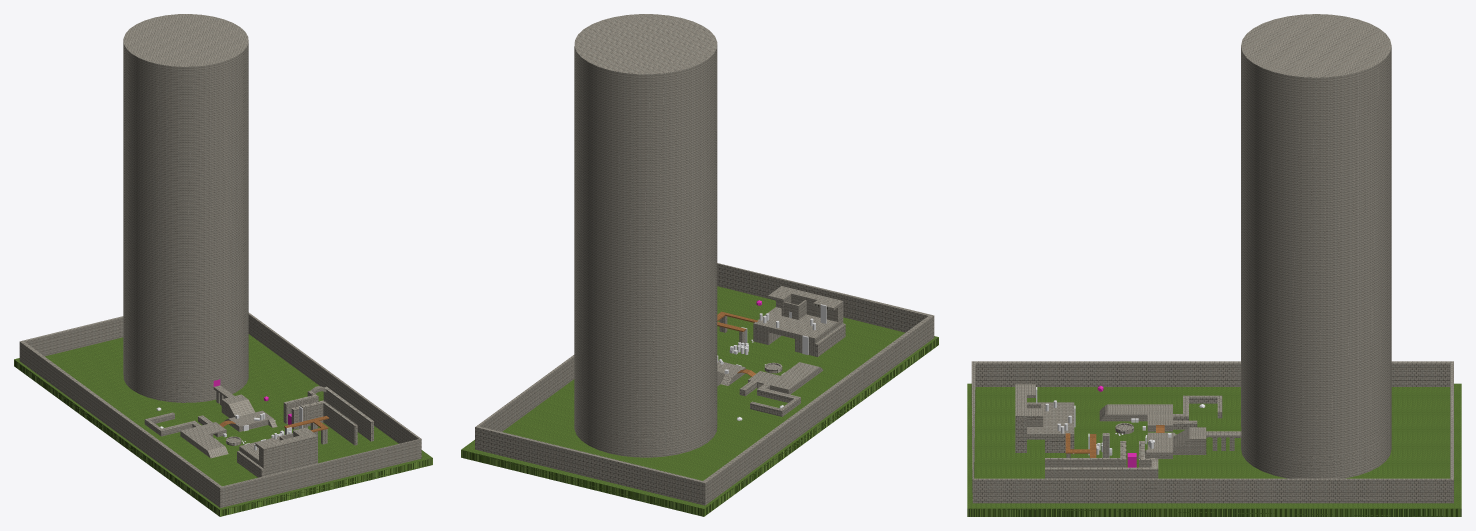
File: TestLevel.glb
3 renders of one model, left to right at view 1: azimuth 30°, elevation 25°; view 2: azimuth 150°, elevation 25°; view 3: azimuth 270°, elevation 25°, orthographic. The views are drawn at different scales.
Visible parts, largest first — view 1: TOWER, floor -col, env -col.005, env -col.001, env -col.004, env -col, Cube; view 2: TOWER, floor -col, env -col.005, env -col.001, env -col, Cube; view 3: TOWER, floor -col, env -col.005, env -col, env -col.001, env -col.004, Cube.
Part boxes in pixels (box(x1,y1,x2,y2)): TOWER: box(123, 14, 248, 402); floor -col: box(14, 334, 432, 516); env -col.005: box(19, 312, 421, 507); env -col.001: box(237, 427, 317, 477); env -col.004: box(283, 386, 373, 445); env -col: box(180, 385, 277, 458); Cube: box(144, 412, 212, 436); TOWER: box(574, 14, 717, 457); floor -col: box(461, 286, 938, 516); env -col.005: box(475, 263, 934, 505); env -col.001: box(753, 286, 845, 356); env -col: box(717, 361, 823, 394); Cube: box(739, 380, 800, 416); TOWER: box(1241, 14, 1391, 478); floor -col: box(967, 383, 1461, 516); env -col.005: box(971, 361, 1453, 503); env -col: box(1099, 404, 1241, 458); env -col.001: box(1015, 384, 1074, 452); env -col.004: box(1045, 441, 1158, 478); Cube: box(1173, 395, 1222, 429).
Bounding box in the file's own units: 85.78 × 132 × 144.
4 materials, 3 textured.
